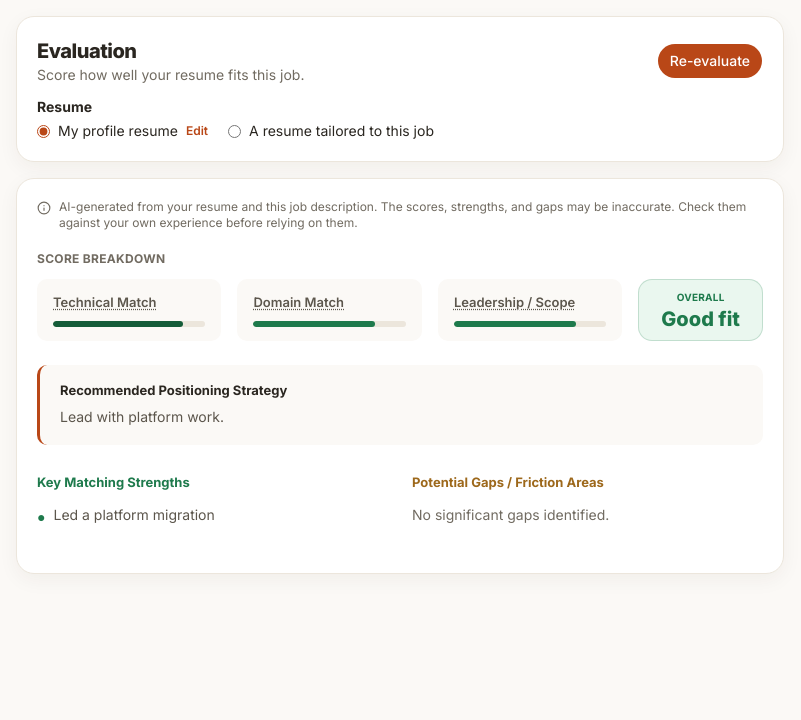
Test case: JobEvaluationPanel › adds a re-evaluation to the history and selects it
Check: the text "Lead with platform work." is shown, box [60,408,224,425]
Check: the text "Evaluation History" is not shown
Click the button "Re-evaluate" at (710, 61), box [657,43,763,79]
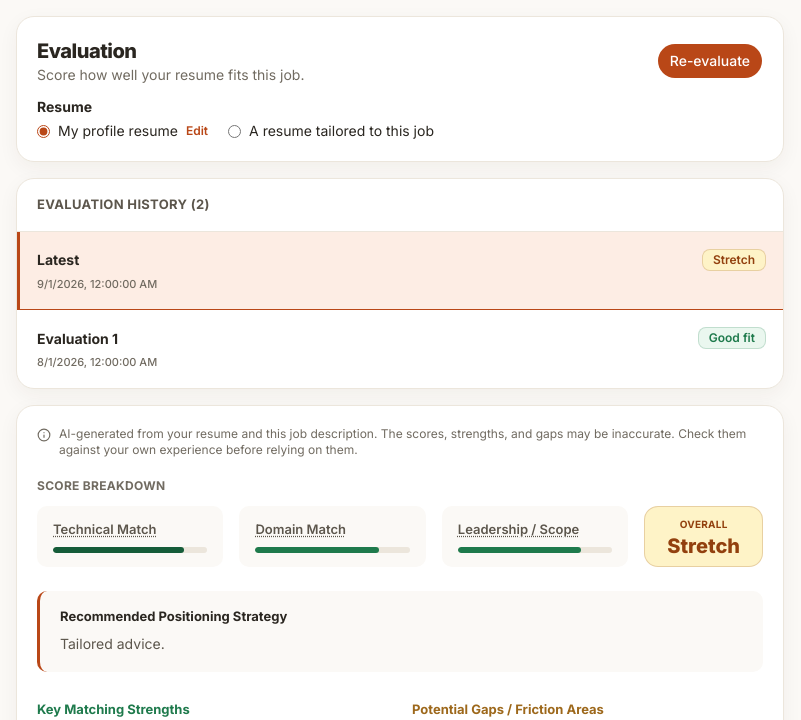
Check: the heading "Evaluation History (2)" is shown, box [37,196,210,212]
Check: the text "Tailored advice." is shown, box [60,635,165,652]
Check: the text "Lead with platform work." is gone
